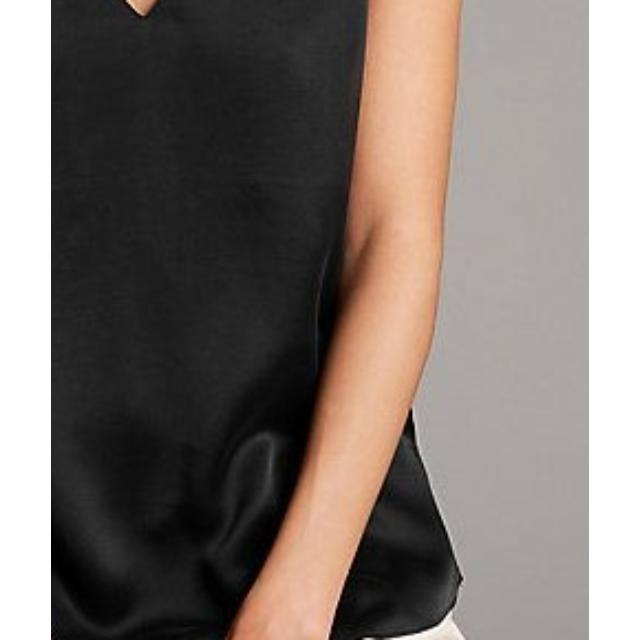silk: (52, 0, 470, 640)
